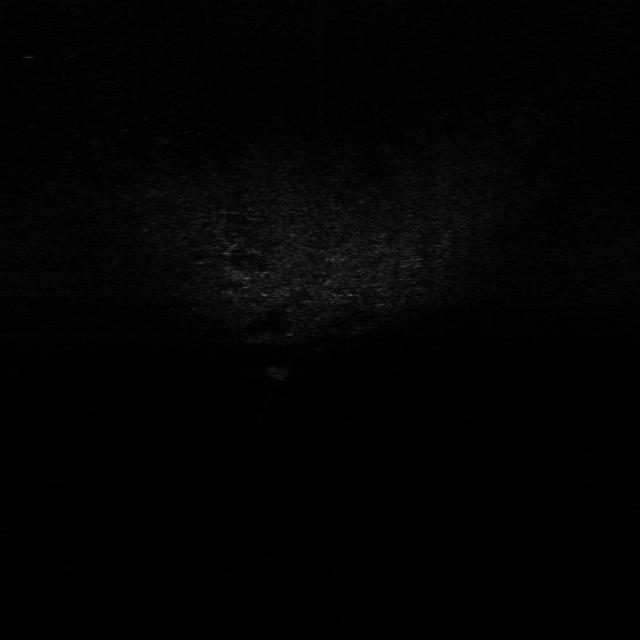cube: (261, 359, 293, 383)
